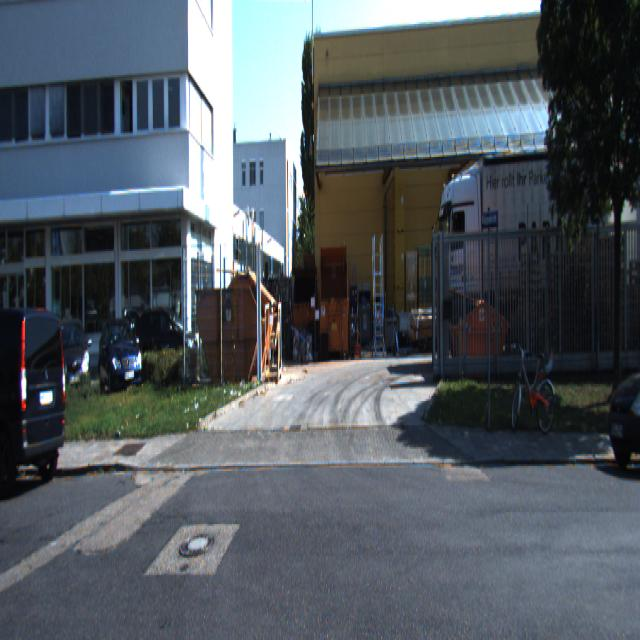Car: (0, 300, 69, 500), (98, 316, 143, 408), (53, 315, 93, 414)
